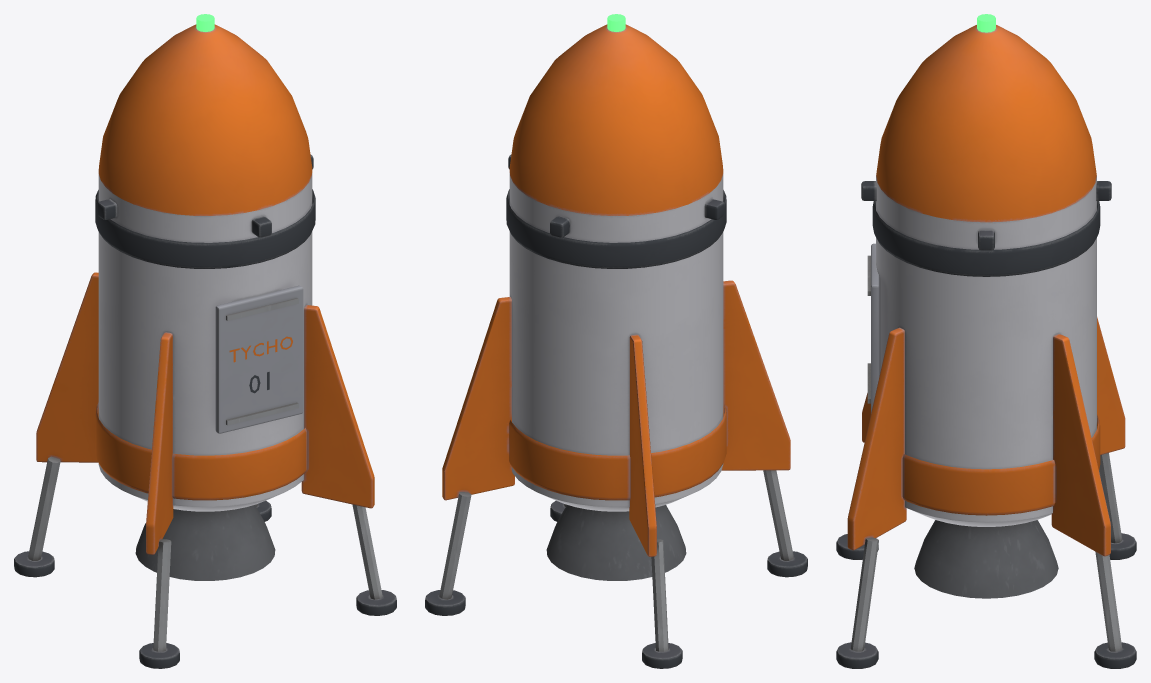
File: lofter.glb
The picture shows the model from 3 angles, left to right: view 1: azimuth 30°, elevation 25°; view 2: azimuth 150°, elevation 25°; view 3: azimuth 270°, elevation 25°; orthographic projection. The views are drawn at different scales.
Visible parts, largest first — view 1: Lofter; view 2: Lofter; view 3: Lofter.
Boxes of the visible parts, bbox=[...] form: Lofter: bbox=[14, 14, 396, 668]; Lofter: bbox=[425, 14, 807, 668]; Lofter: bbox=[836, 14, 1136, 668].
Size of the model in its own units: 0.7056 by 1.53 by 0.7081.
1 material, 1 textured.
